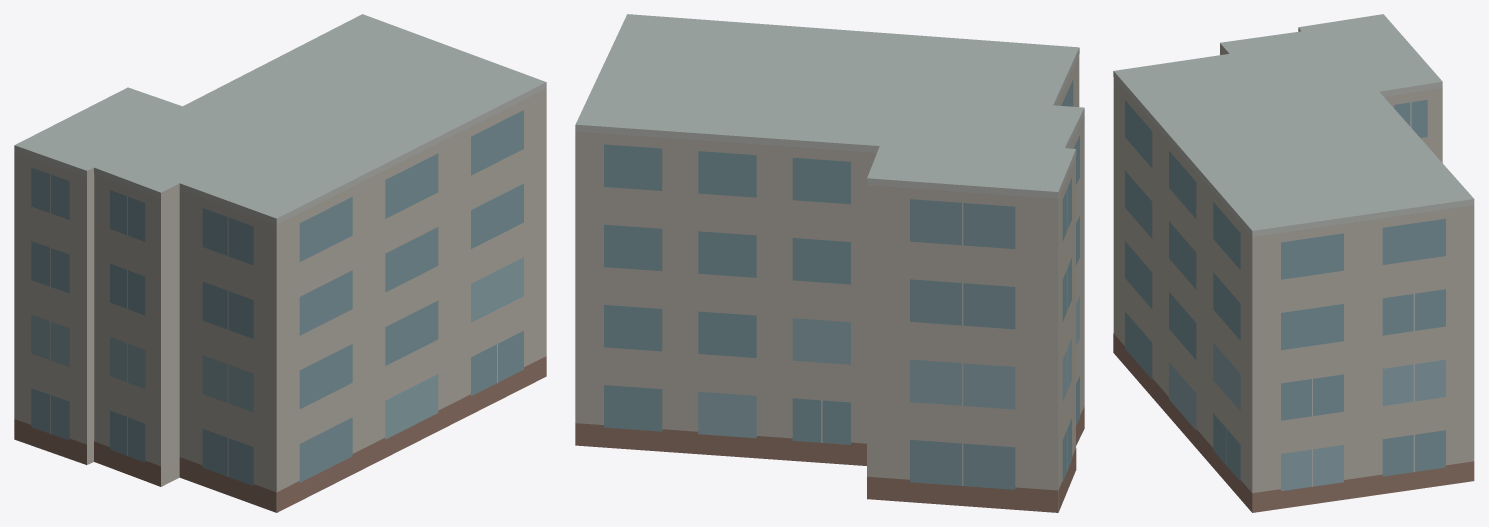
The model's file is survey-upis-32691454.glb.
The picture shows the model from 3 angles, left to right: view 1: azimuth 30°, elevation 25°; view 2: azimuth 150°, elevation 25°; view 3: azimuth 270°, elevation 25°; orthographic projection. The views are drawn at different scales.
Visible parts, largest first — view 1: survey-upis-32691454.tmp; view 2: survey-upis-32691454.tmp; view 3: survey-upis-32691454.tmp.
Boxes of the visible parts, <box> form: survey-upis-32691454.tmp: <box>14,14,546,512</box>; survey-upis-32691454.tmp: <box>575,14,1084,512</box>; survey-upis-32691454.tmp: <box>1113,14,1474,512</box>.
Bounding box in the file's own units: 18.86 × 11.43 × 13.26.
